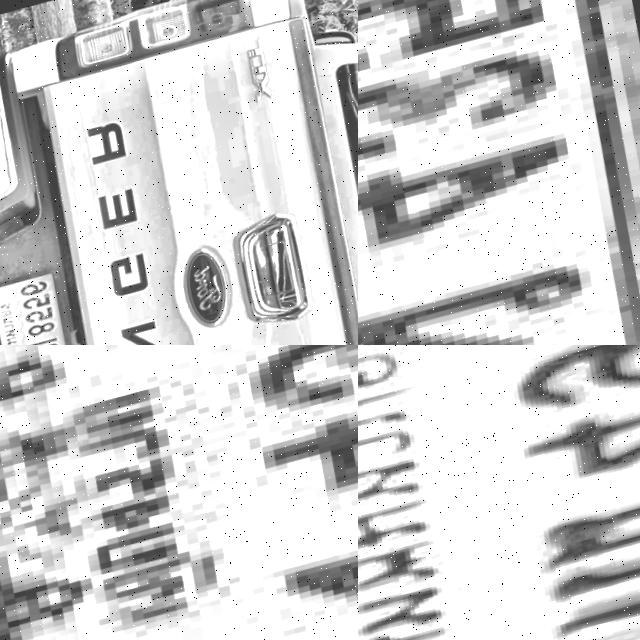license-plate: (0, 345, 358, 640), (358, 0, 640, 345), (358, 345, 640, 640), (0, 266, 88, 345)
